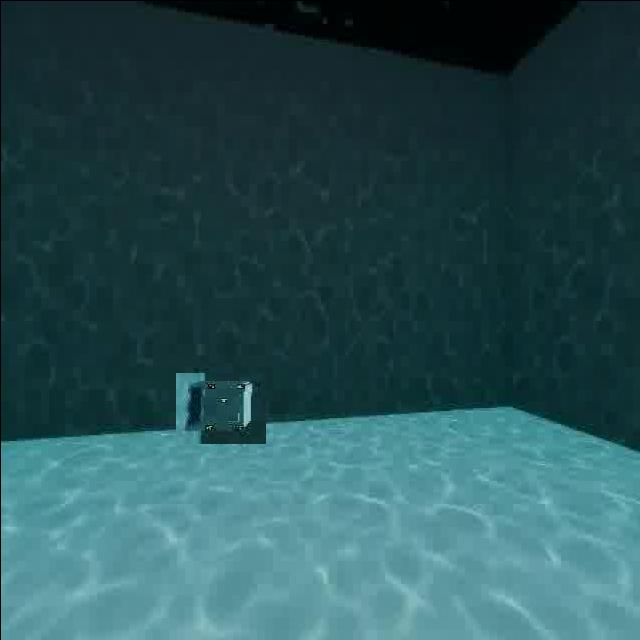Docking Station: (180, 367, 260, 448)
